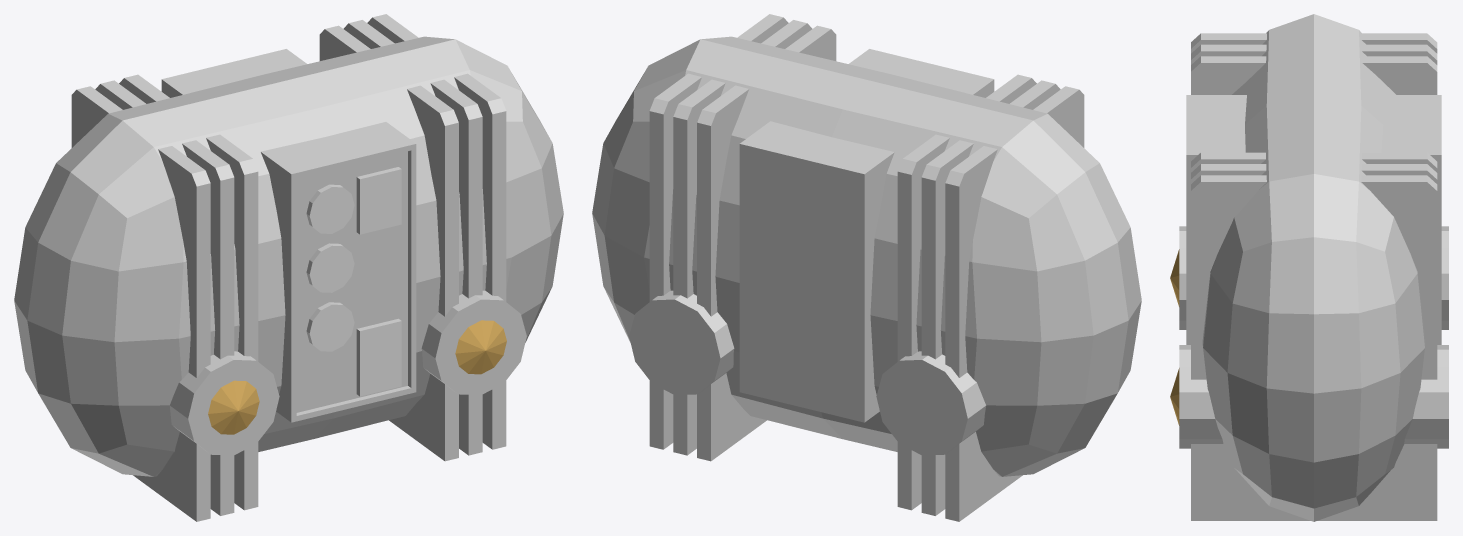
File: industrial_machine001.glb
3 views of the same model, side by side, from view 1: azimuth 30°, elevation 25°; view 2: azimuth 150°, elevation 25°; view 3: azimuth 270°, elevation 25° (orthographic).
Visible parts, largest first — view 1: IndustrialMachine001; view 2: IndustrialMachine001; view 3: IndustrialMachine001.
Boxes of the visible parts, x1=… form: IndustrialMachine001: x1=14, y1=14, x2=563, y2=521; IndustrialMachine001: x1=592, y1=14, x2=1141, y2=521; IndustrialMachine001: x1=1170, y1=14, x2=1448, y2=521.
Size of what is drawn, in the model's own units: 2.55 by 1.67 by 1.2.
